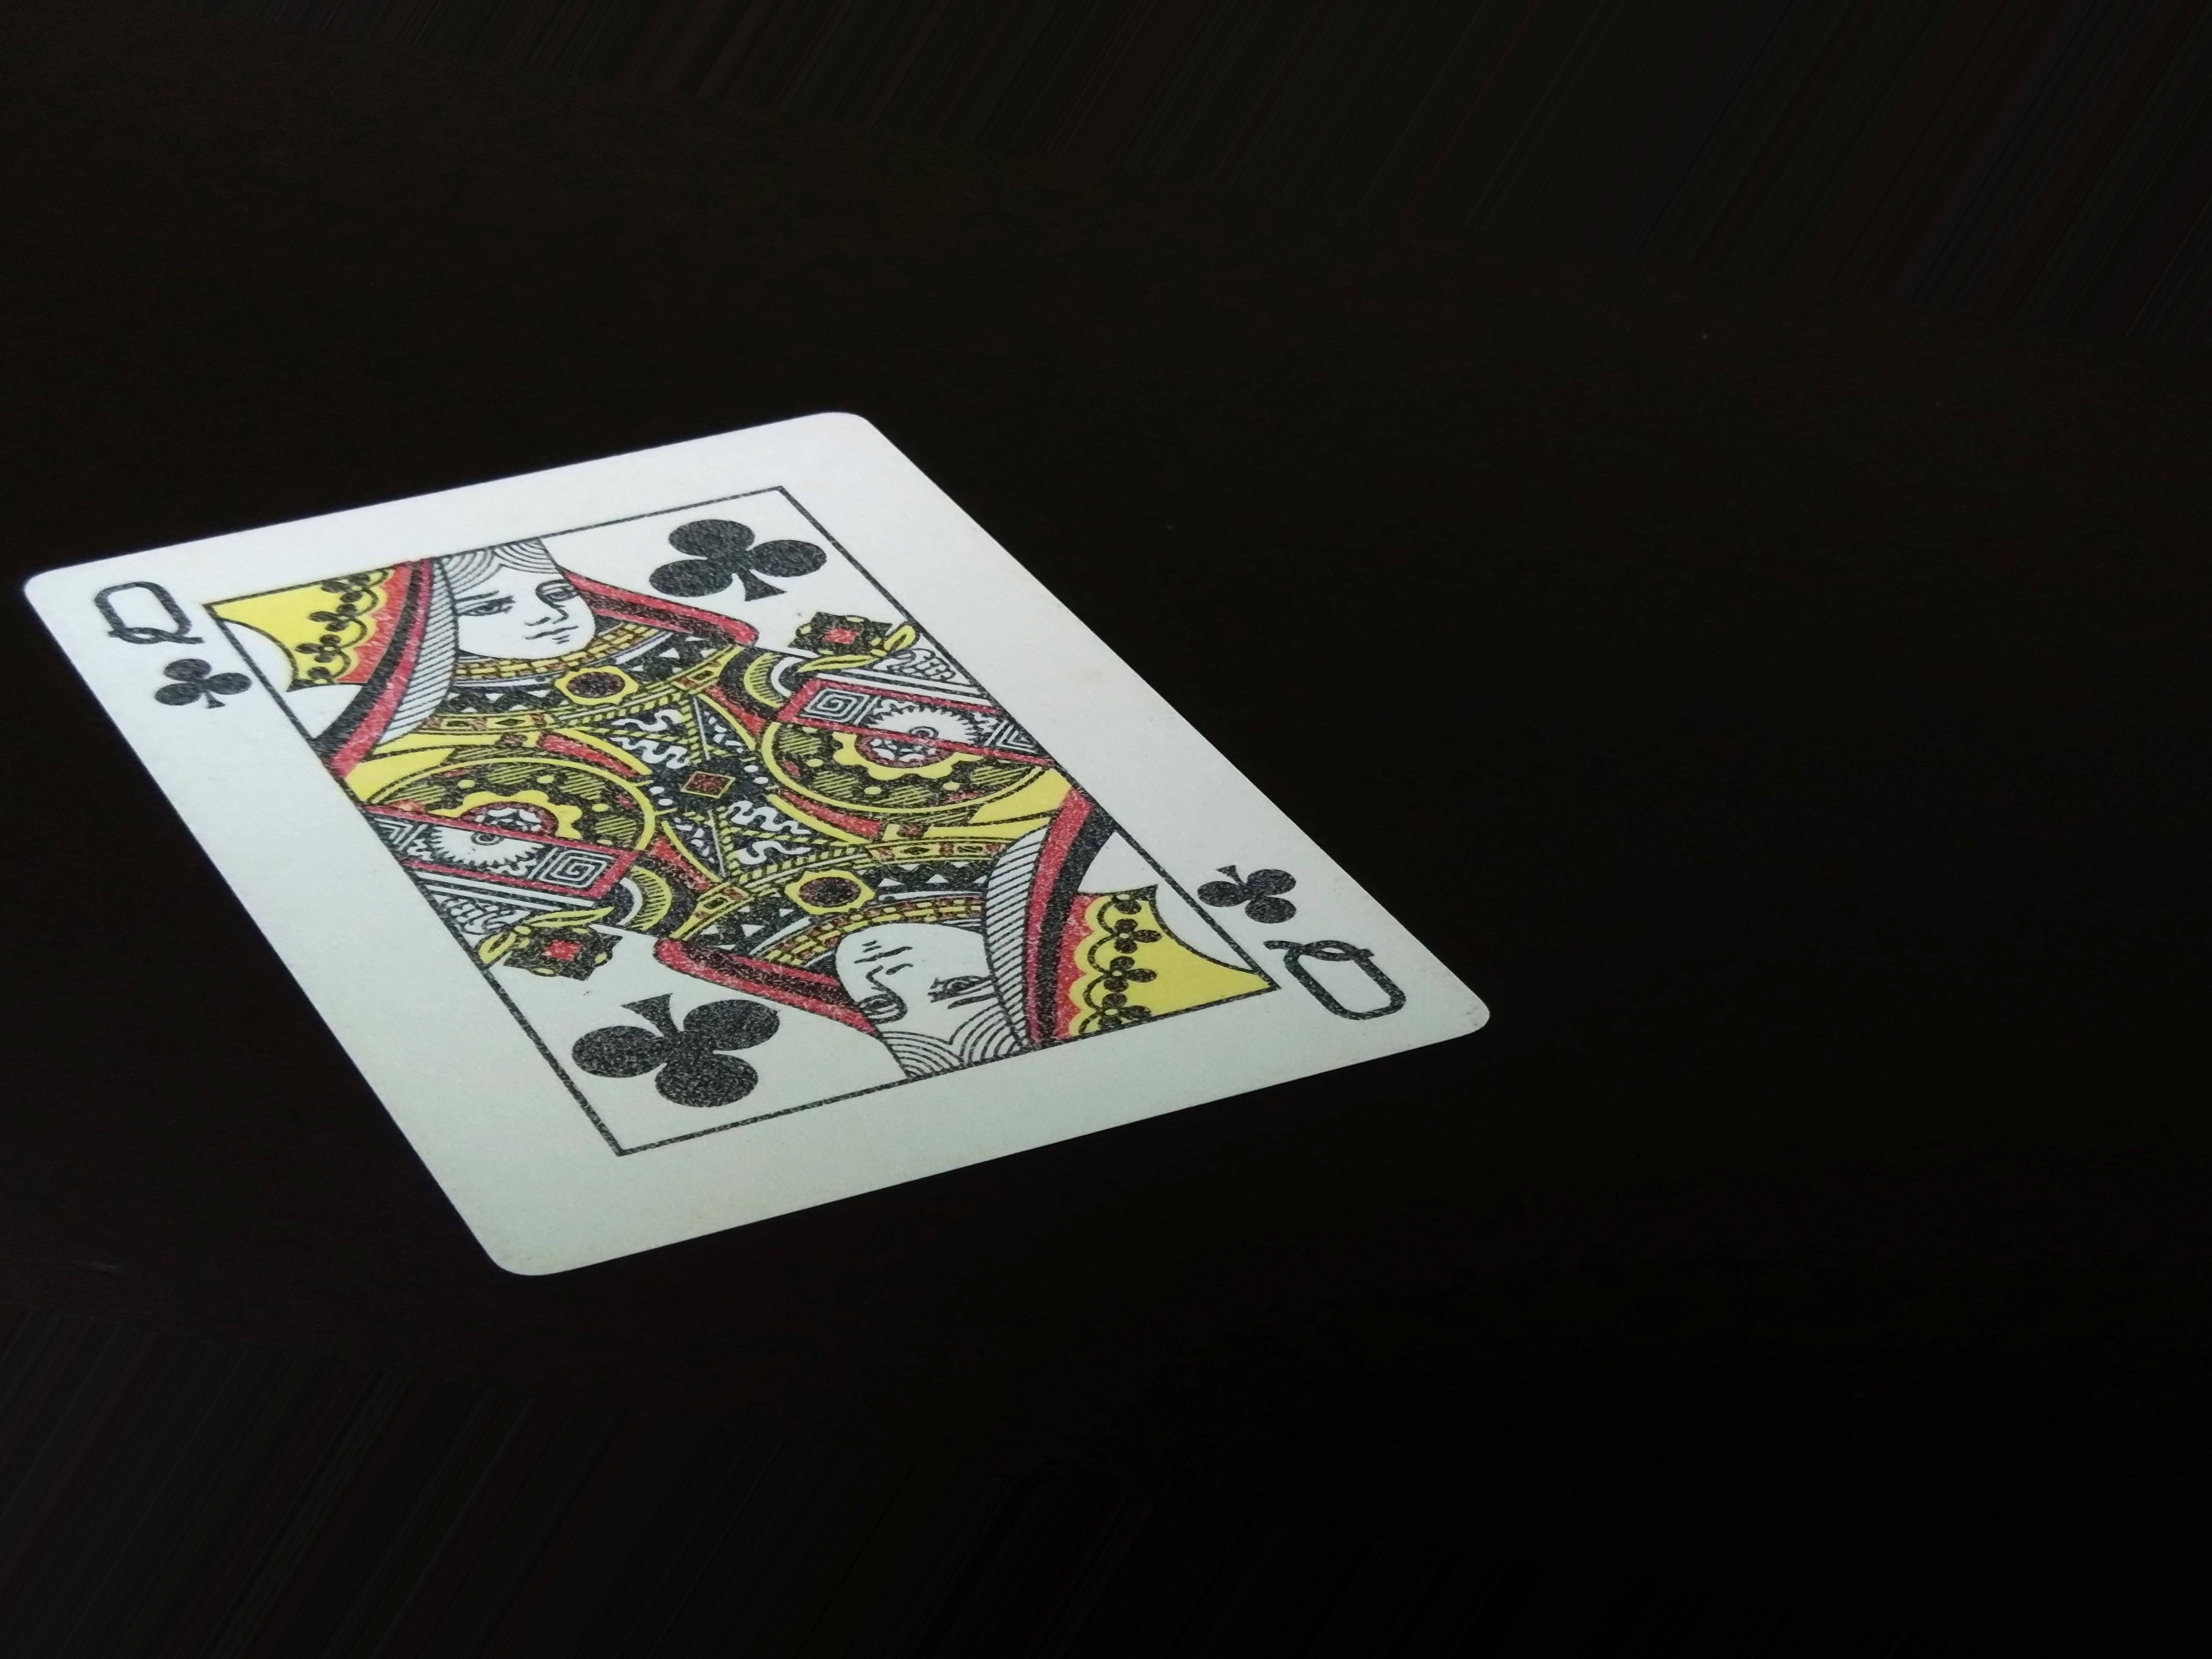QC: (1207, 842, 1414, 1019)
